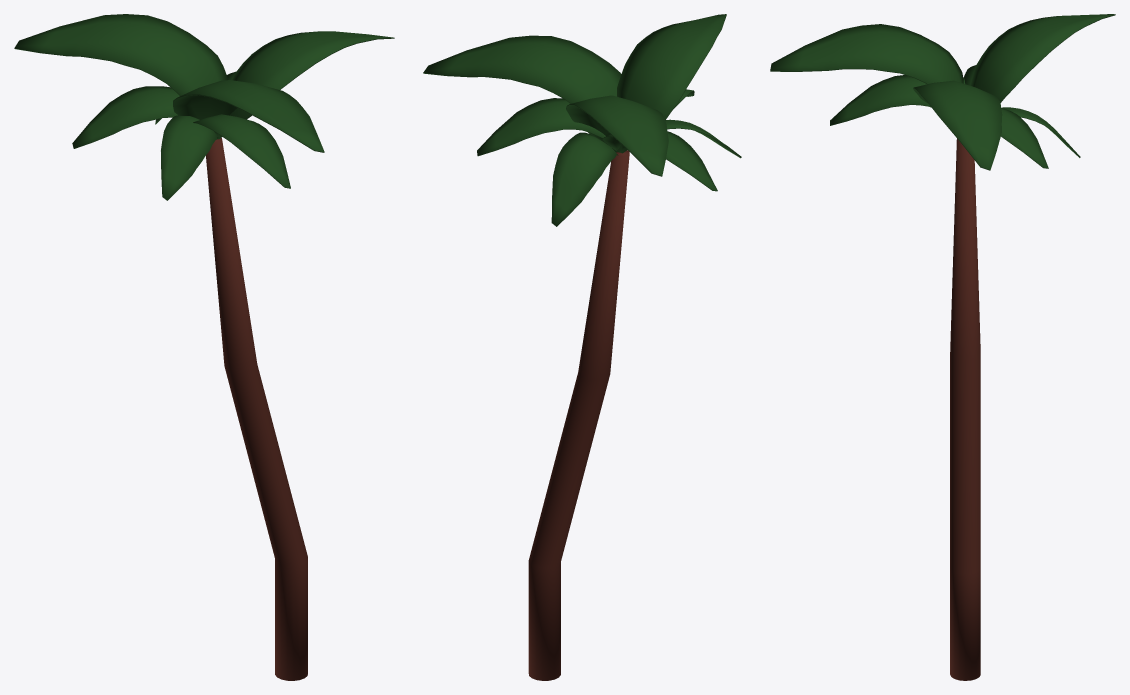
The model's file is palm_tree1.fbx.
3 renders of one model, left to right at view 1: azimuth 30°, elevation 25°; view 2: azimuth 150°, elevation 25°; view 3: azimuth 270°, elevation 25°, orthographic. The views are drawn at different scales.
Parts seen in each view (by area): view 1: palm; view 2: palm; view 3: palm.
Boxes of the visible parts, bbox=[...] form: palm: bbox=[14, 14, 394, 680]; palm: bbox=[423, 14, 741, 680]; palm: bbox=[770, 14, 1115, 680].
Bounding box in the file's own units: 1104 × 2189 × 1151.
